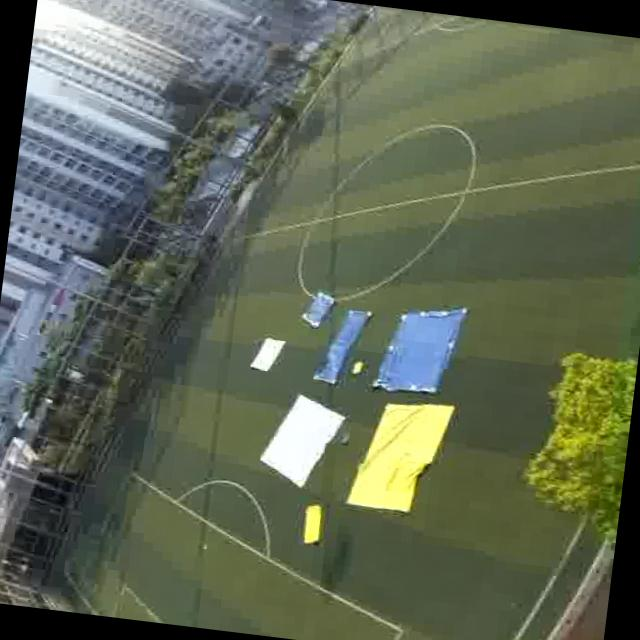danger: (368, 294, 469, 402), (312, 331, 356, 386), (297, 284, 339, 328)
safety: (252, 386, 348, 494), (242, 327, 292, 378)
warning: (340, 391, 460, 515), (296, 498, 332, 546)
